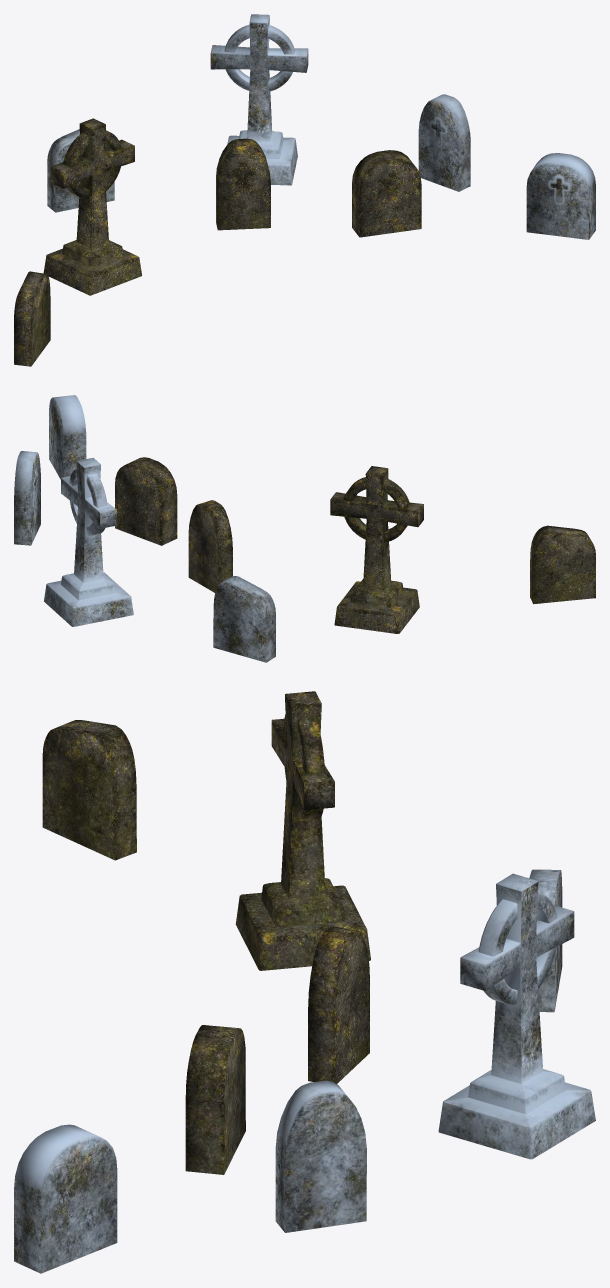
File: t_lap_cruces.glb
The picture shows the model from 3 angles, top to bottom: view 1: azimuth 30°, elevation 25°; view 2: azimuth 150°, elevation 25°; view 3: azimuth 270°, elevation 25°; orthographic projection. The views are drawn at different scales.
Parts seen in each view (by area): view 1: headstone_v6_v10-material; view 2: headstone_v6_v10-material; view 3: headstone_v6_v10-material.
Part boxes in pixels (bbox=[...]): headstone_v6_v10-material: bbox=[14, 14, 595, 366]; headstone_v6_v10-material: bbox=[14, 395, 595, 662]; headstone_v6_v10-material: bbox=[14, 691, 595, 1273].
Bounding box in the file's own units: 3.2 × 0.8022 × 1.74.
Materials: 2 (2 with a texture image).
